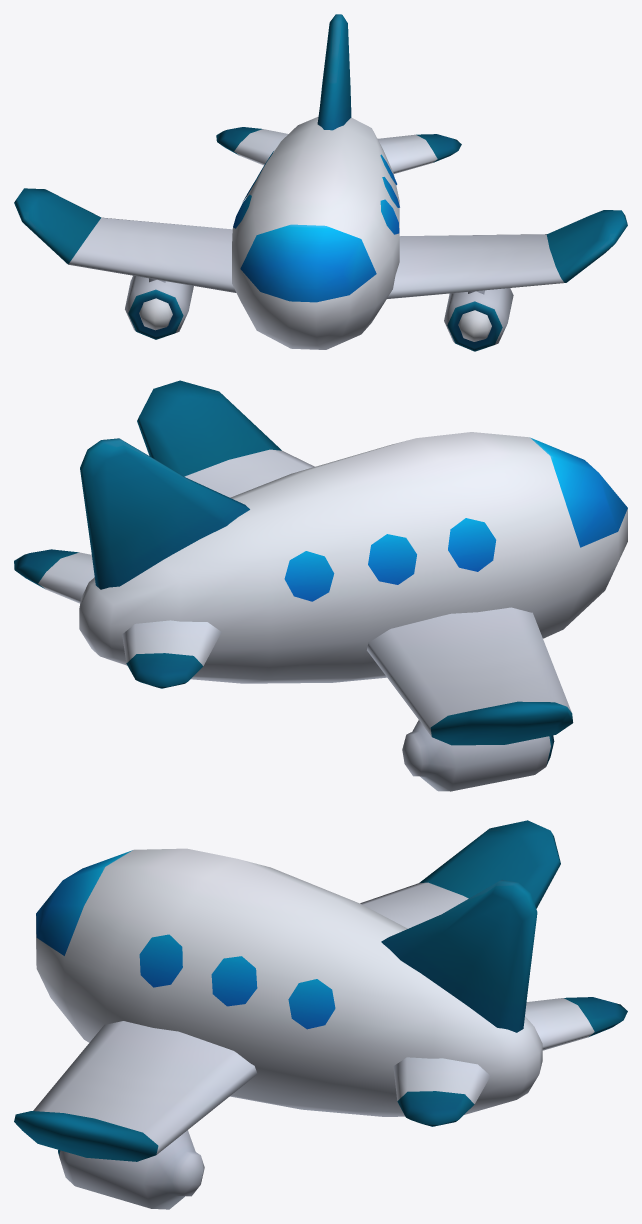
File: Airplane.fbx
3 views of the same model, one above another, from view 1: azimuth 30°, elevation 25°; view 2: azimuth 150°, elevation 25°; view 3: azimuth 270°, elevation 25° (orthographic). The views are drawn at different scales.
Parts seen in each view (by area): view 1: Airplane; view 2: Airplane; view 3: Airplane.
Boxes of the visible parts, left/top/right/bottom form: Airplane: left=14, top=14, right=627, bottom=351; Airplane: left=14, top=380, right=627, bottom=791; Airplane: left=14, top=820, right=627, bottom=1209.
Bounding box in the file's own units: 3503 × 1655 × 2948.
1 material, 1 textured.
